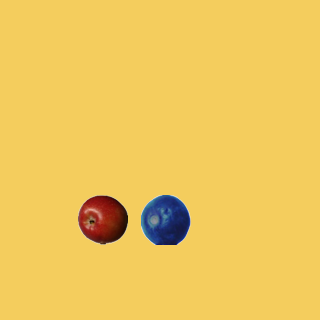Apple Braeburn: (77, 194, 127, 244)
Huckleberry: (140, 194, 190, 244)
